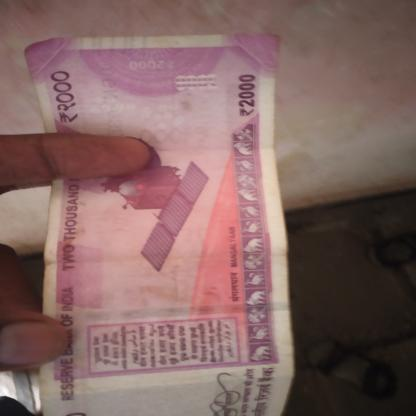New2000Back: (28, 41, 271, 415)
